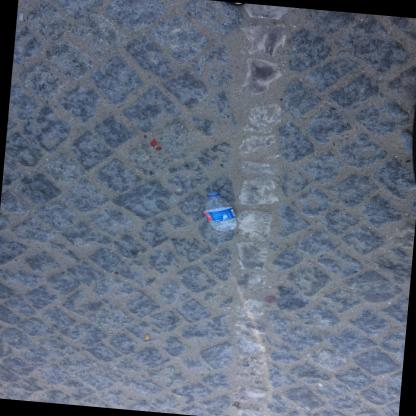Paper: (18, 12, 23, 20), (316, 382, 323, 386), (144, 334, 149, 339)
Plastic: (203, 190, 237, 230), (202, 206, 235, 221)
